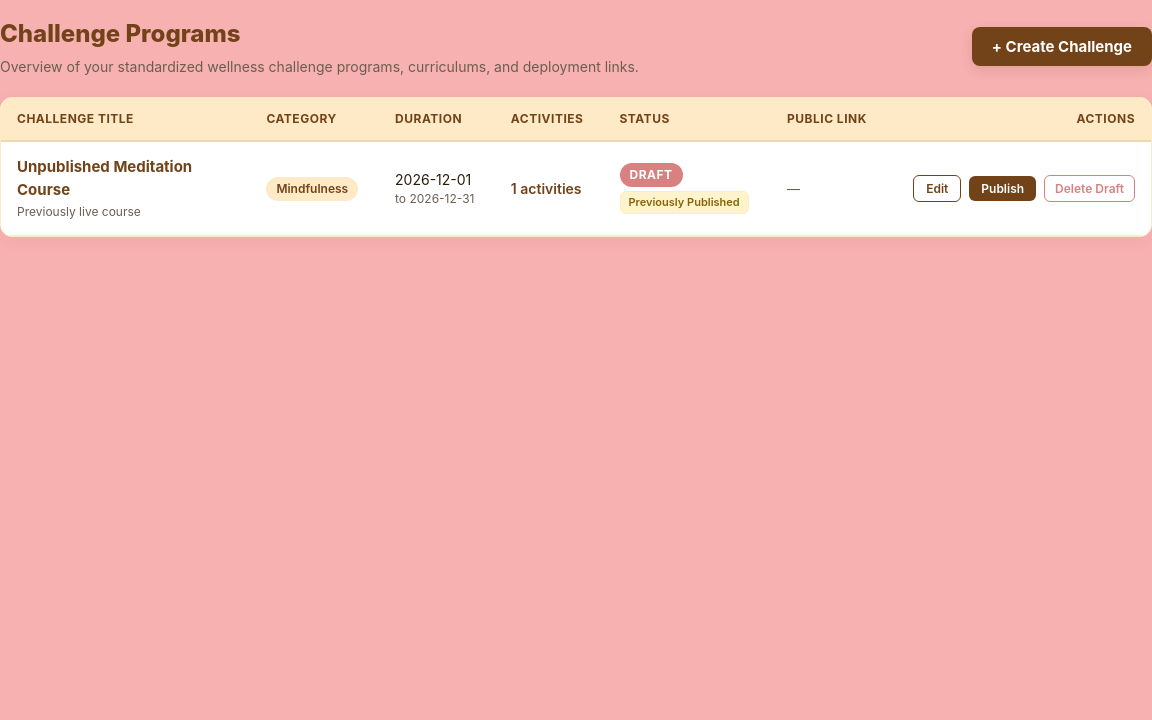
Test: Program Builder Component (UI-07) › displays "Previously Published" badge and shows modal note when editing an unpublished draft
Expected: the text "Unpublished Meditation Course" is shown, x1=17 y1=157 x2=192 y2=198
Expected: the text "Previously Published" is shown, x1=620 y1=191 x2=749 y2=214
Click Edit on this draft
Click the button "Edit".
click(937, 188)  # box x1=913 y1=175 x2=961 y2=202
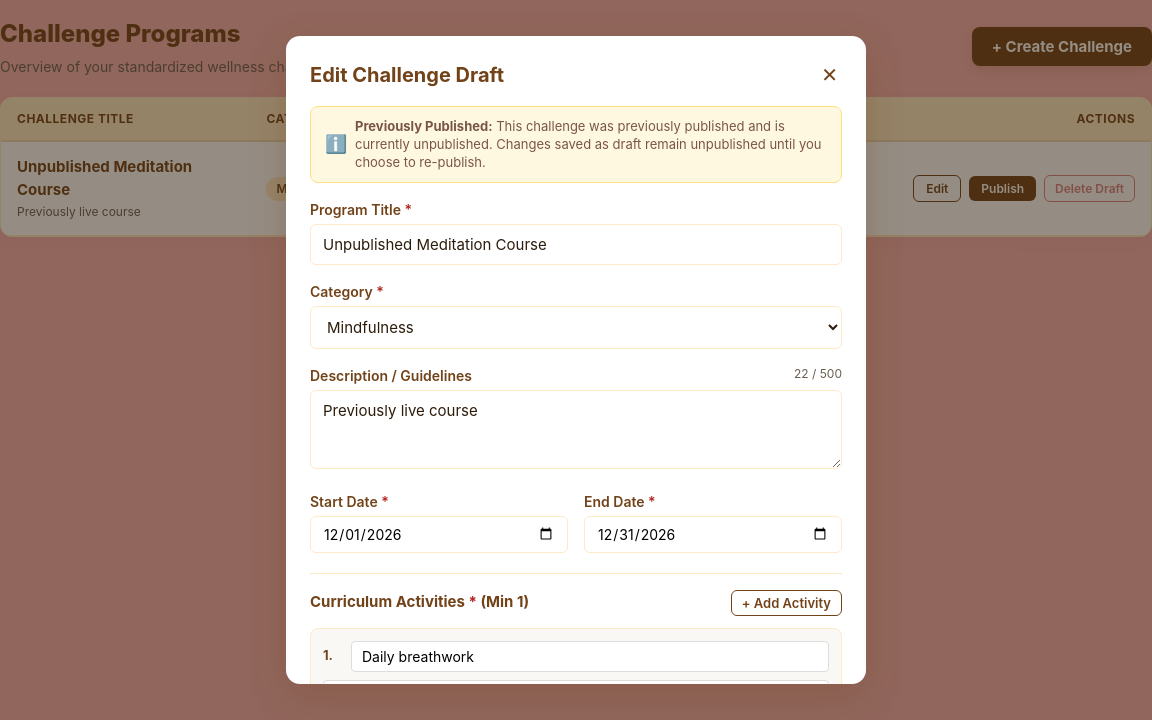
Expected: the element that starts with "Previously Published:" is shown, x1=310 y1=106 x2=842 y2=183
Expected: the text "this challenge was previously published and is currently unpublished" is shown, x1=355 y1=118 x2=822 y2=170
